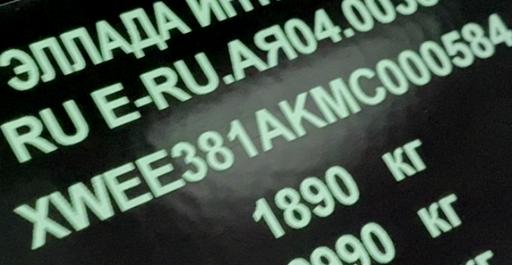letter: (47, 173, 115, 231), (12, 195, 72, 250), (102, 160, 154, 214), (133, 148, 187, 199), (276, 88, 328, 139), (308, 75, 362, 124), (254, 105, 296, 154), (196, 128, 236, 173), (170, 140, 210, 182), (348, 65, 386, 107), (224, 117, 260, 160), (439, 29, 475, 69), (374, 58, 410, 97), (398, 47, 432, 87), (461, 20, 495, 59), (418, 38, 452, 77), (487, 9, 511, 51)
